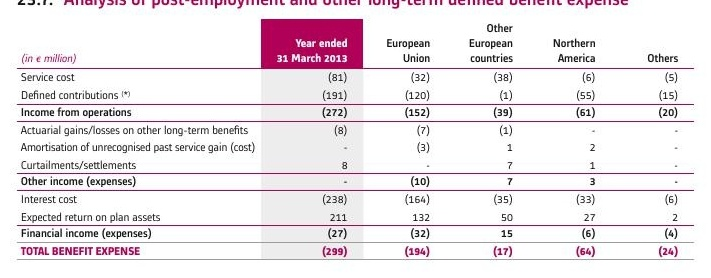table: (0, 0, 711, 278)
